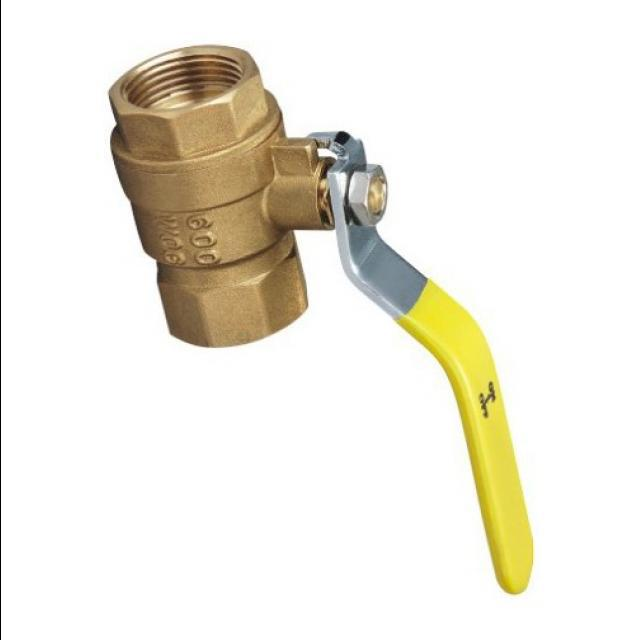opened valve: (109, 42, 537, 598)
